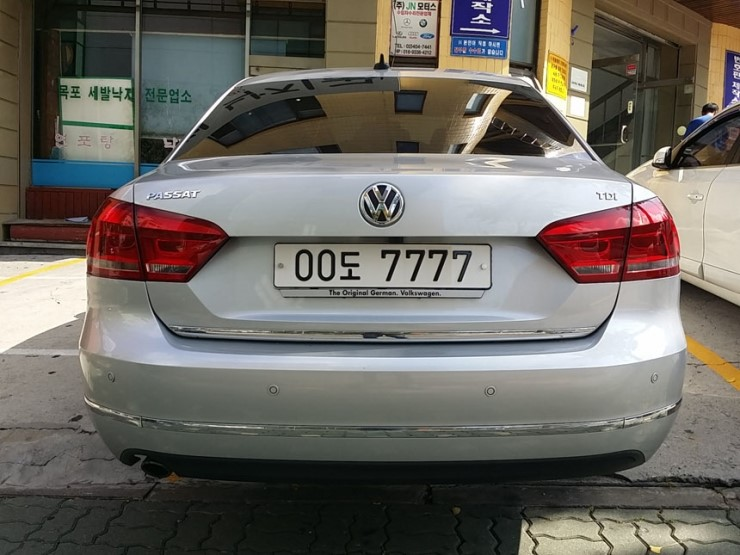plate: (275, 244, 490, 289)
